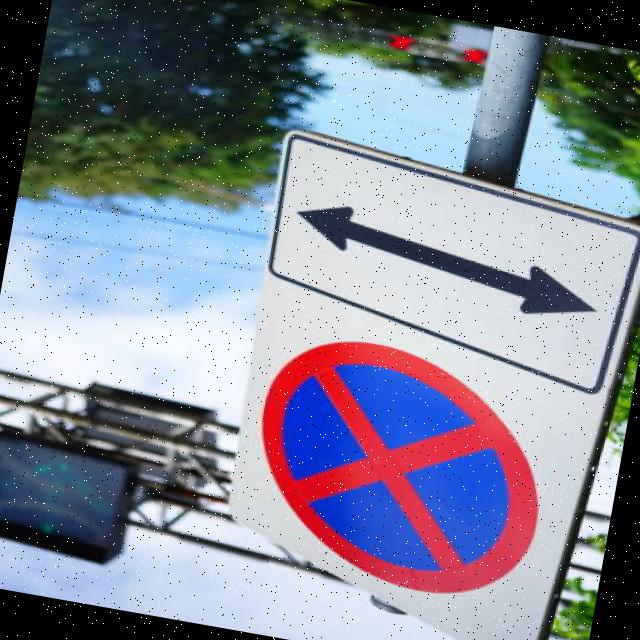no_parking: (219, 320, 576, 614)
